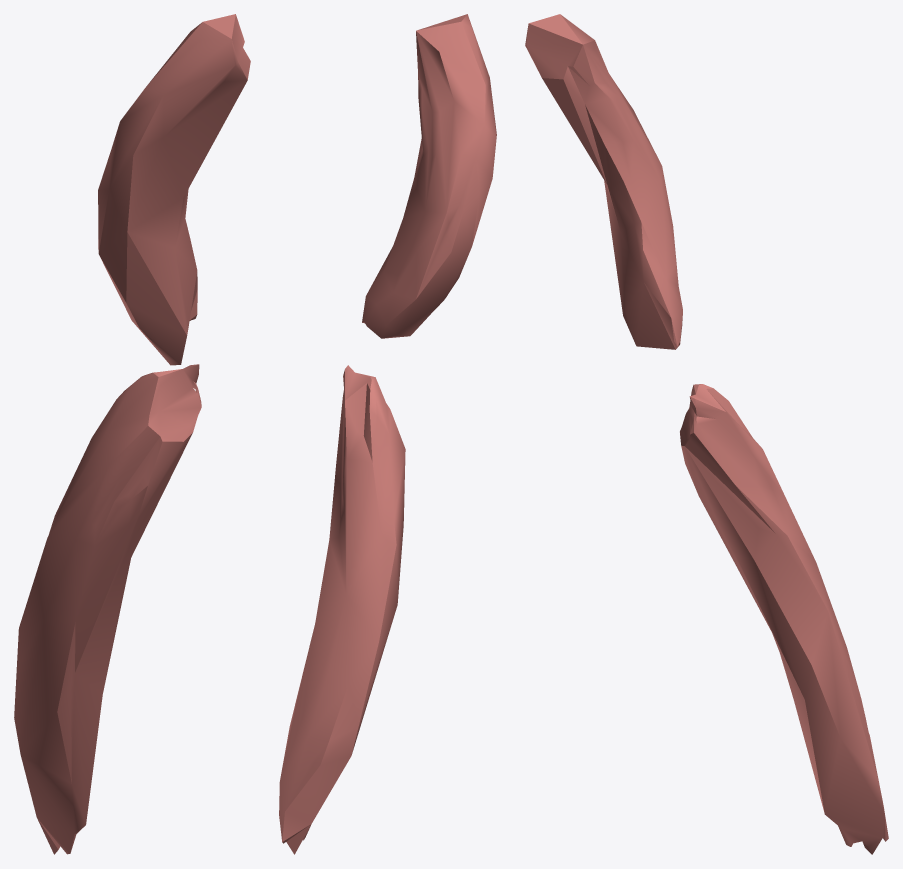
File: fma22890_fj1551.glb
3 views of the same model, side by side, from view 1: azimuth 30°, elevation 25°; view 2: azimuth 150°, elevation 25°; view 3: azimuth 270°, elevation 25° (orthographic). The views are drawn at different scales.
Visible parts, largest first — view 1: FMA22890_FJ1551; view 2: FMA22890_FJ1551; view 3: FMA22890_FJ1551.
Boxes of the visible parts, x1,y1,x2,y2 form: FMA22890_FJ1551: [14, 14, 250, 854]; FMA22890_FJ1551: [279, 14, 496, 854]; FMA22890_FJ1551: [525, 14, 888, 854].
Bounding box in the file's own units: 0.00678 × 0.0435 × 0.0174.
